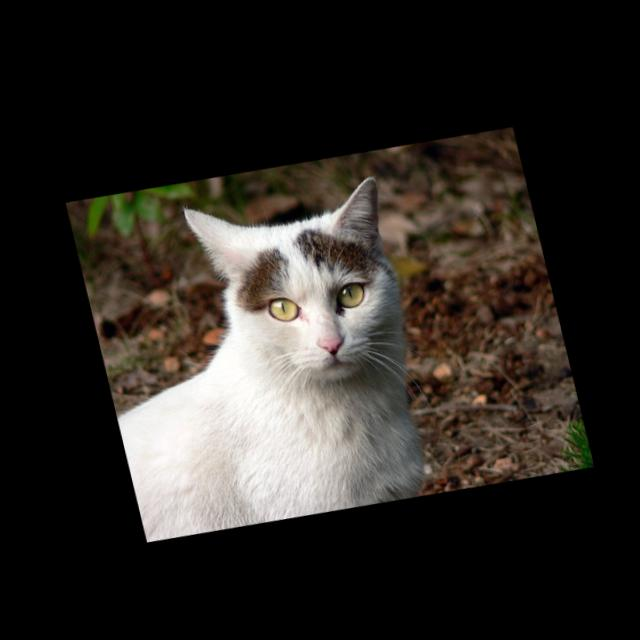animals: (181, 167, 406, 373)
